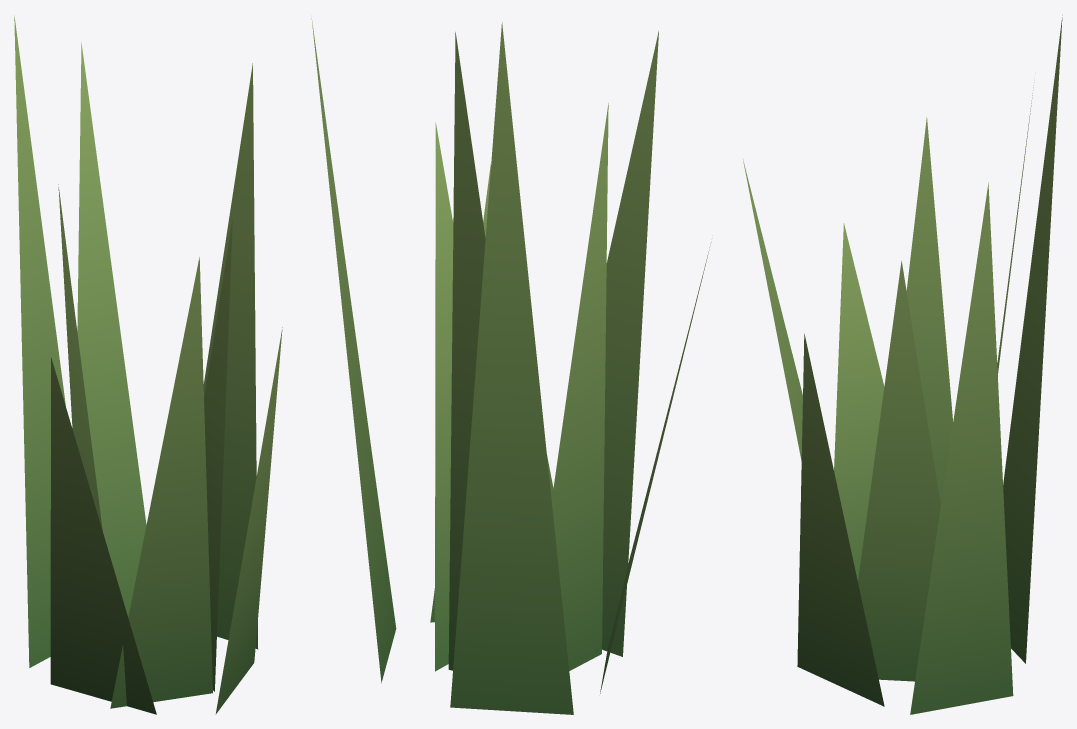
File: grass.glb
3 views of the same model, side by side, from view 1: azimuth 30°, elevation 25°; view 2: azimuth 150°, elevation 25°; view 3: azimuth 270°, elevation 25° (orthographic). The views are drawn at different scales.
Visible parts, largest first — view 1: grass; view 2: grass; view 3: grass.
Part boxes in pixels (x1,y1,x2,y2): grass: (14, 15, 282, 714); grass: (311, 18, 711, 714); grass: (743, 15, 1062, 714).
Size of the model in its own units: 0.2489 by 0.5378 by 0.2519.
